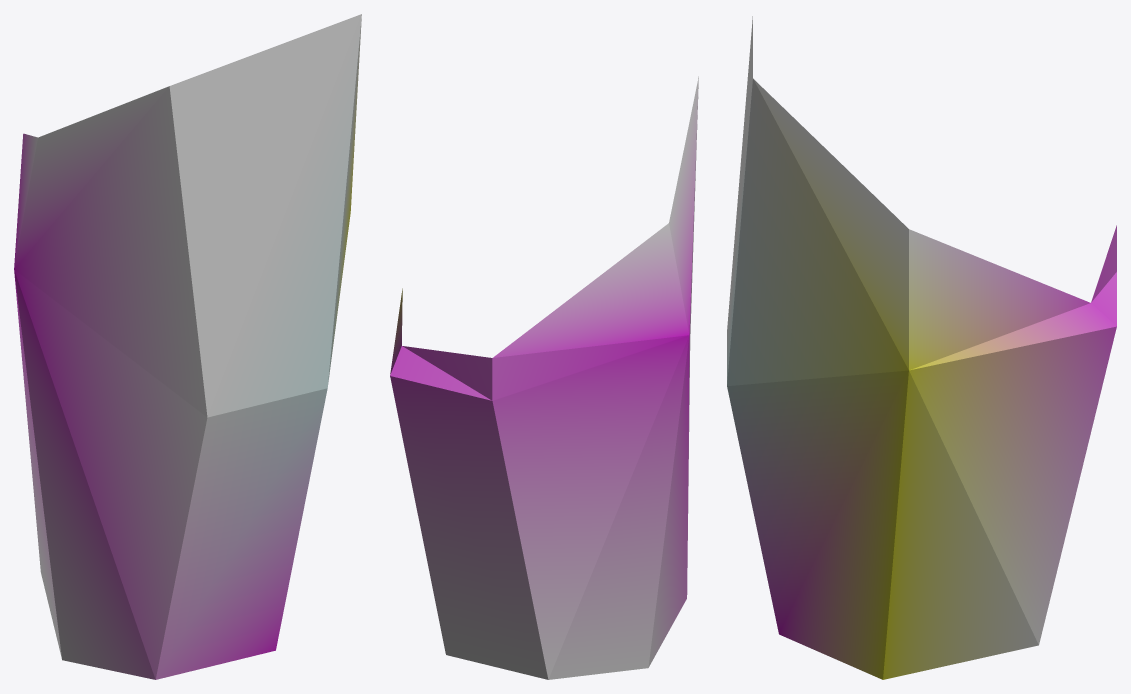
3 views of the same model, side by side, from view 1: azimuth 30°, elevation 25°; view 2: azimuth 150°, elevation 25°; view 3: azimuth 270°, elevation 25° (orthographic). The views are drawn at different scales.
Visible parts, largest first — view 1: model_114C; view 2: model_114C; view 3: model_114C.
Boxes of the visible parts, <box> form: model_114C: <box>14,14,361,679</box>; model_114C: <box>390,76,698,679</box>; model_114C: <box>727,16,1116,679</box>.
Bounding box in the file's own units: 14 × 26 × 15.
